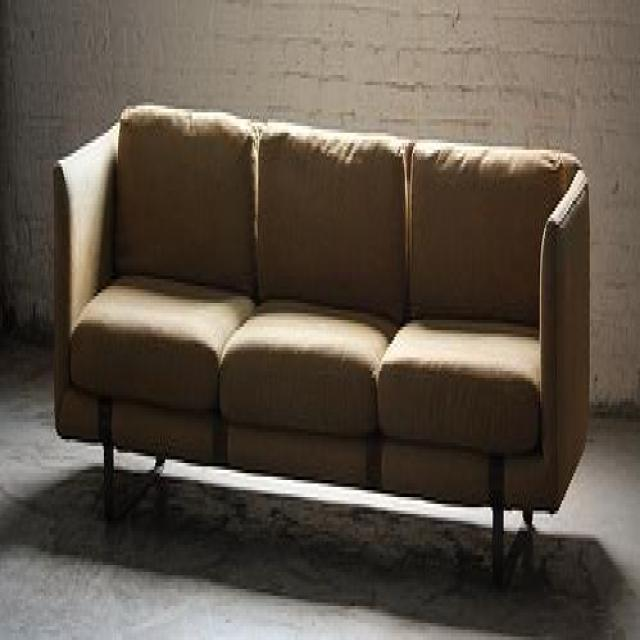sofa: (53, 101, 590, 578)
